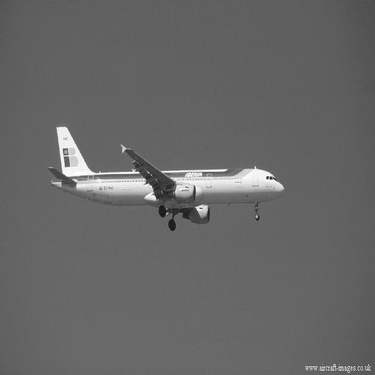airplane: (45, 115, 290, 237)
